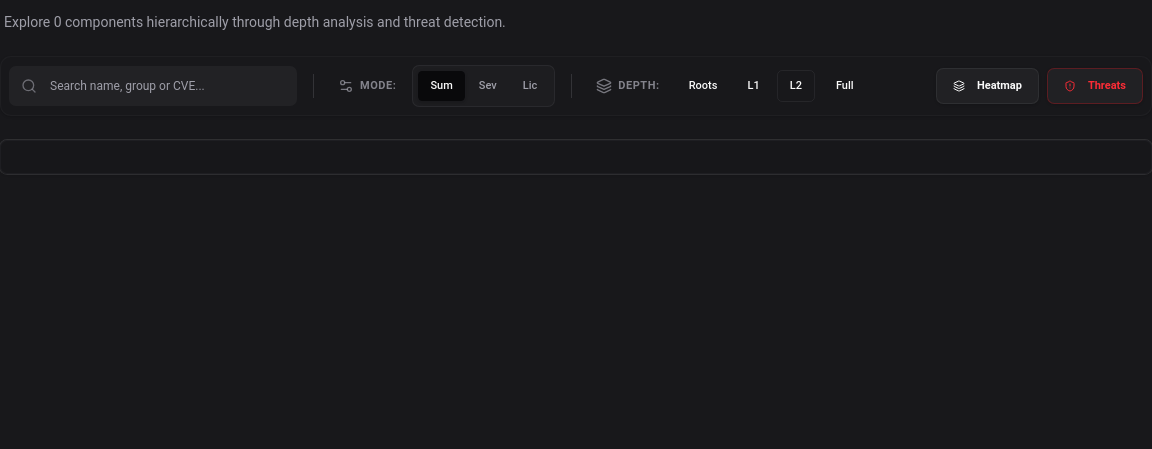
Test: DependencyTree Search › shows 'No components found' when there are no matches
In the field with placeholder "Search name, group or CVE...": (153, 86) x1=9 y1=66 x2=297 y2=106, type "xyz-no-match-xyz"
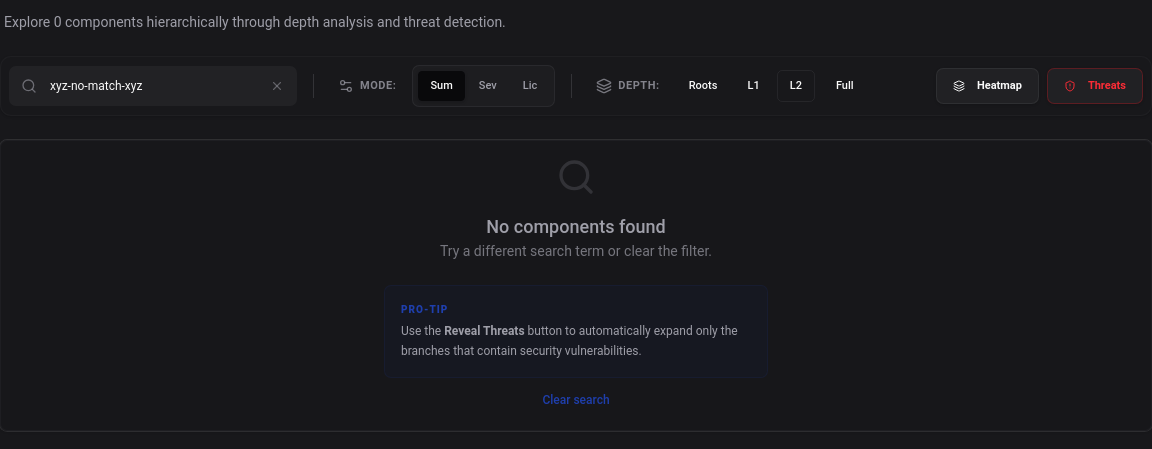
Check: the text "No components found" is shown, box x1=486 y1=213 x2=666 y2=241
Check: the button "Clear search" is shown, box x1=533 y1=386 x2=619 y2=414
